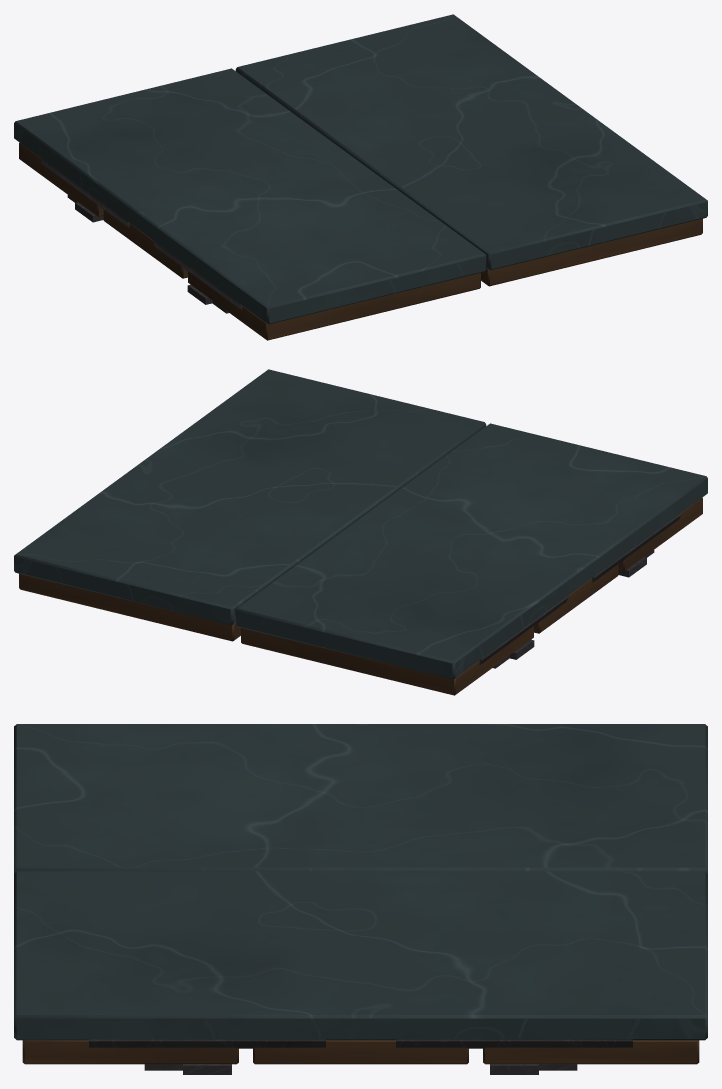
File: trapdoor_dark.glb
3 views of the same model, one above another, from view 1: azimuth 30°, elevation 25°; view 2: azimuth 150°, elevation 25°; view 3: azimuth 270°, elevation 25° (orthographic). The views are drawn at different scales.
Parts seen in each view (by area): view 1: leaf_left, leaf_right; view 2: leaf_left, leaf_right; view 3: leaf_right, leaf_left.
Boxes of the visible parts, x1,y1,x2,y2 form: leaf_left: [14, 68, 486, 340]; leaf_right: [235, 14, 707, 286]; leaf_left: [235, 423, 707, 695]; leaf_right: [14, 369, 486, 641]; leaf_right: [14, 871, 707, 1074]; leaf_left: [14, 724, 707, 873].
Bounding box in the file's own units: 0.995 × 0.093 × 0.995.
Materials: 3 (3 with a texture image).
